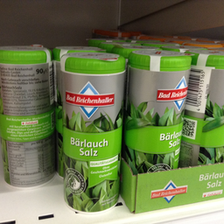spices: (59, 51, 128, 212), (127, 49, 193, 173), (1, 45, 54, 189)
